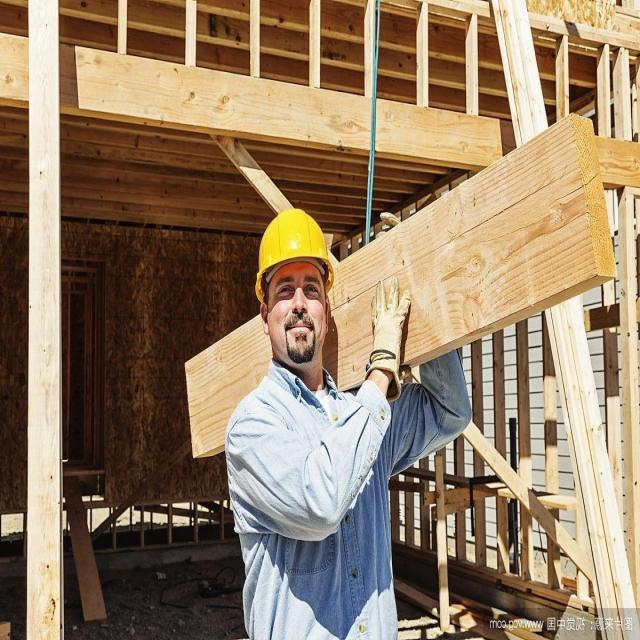helmet: (247, 204, 343, 300)
